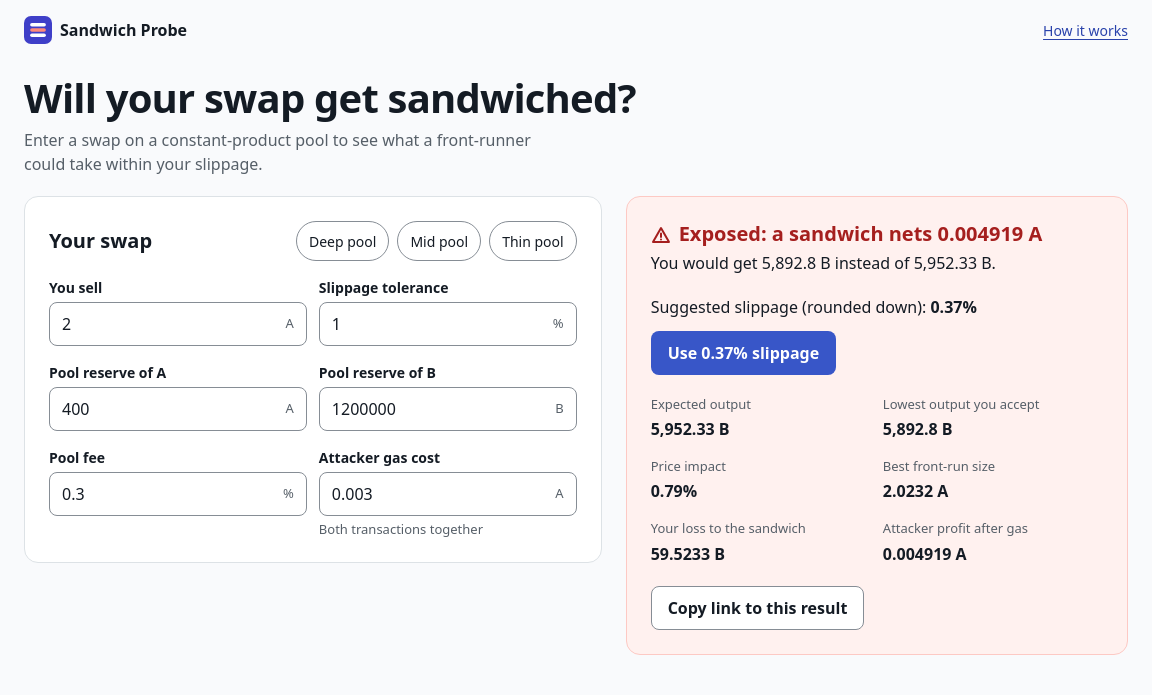
Test: App › rejects an ambiguous comma instead of guessing
Step 1. Replace the text in the field labelled "Pool reserve of A" with "1,234" → {"x": 168, "y": 409}, box [50,389,286,429]
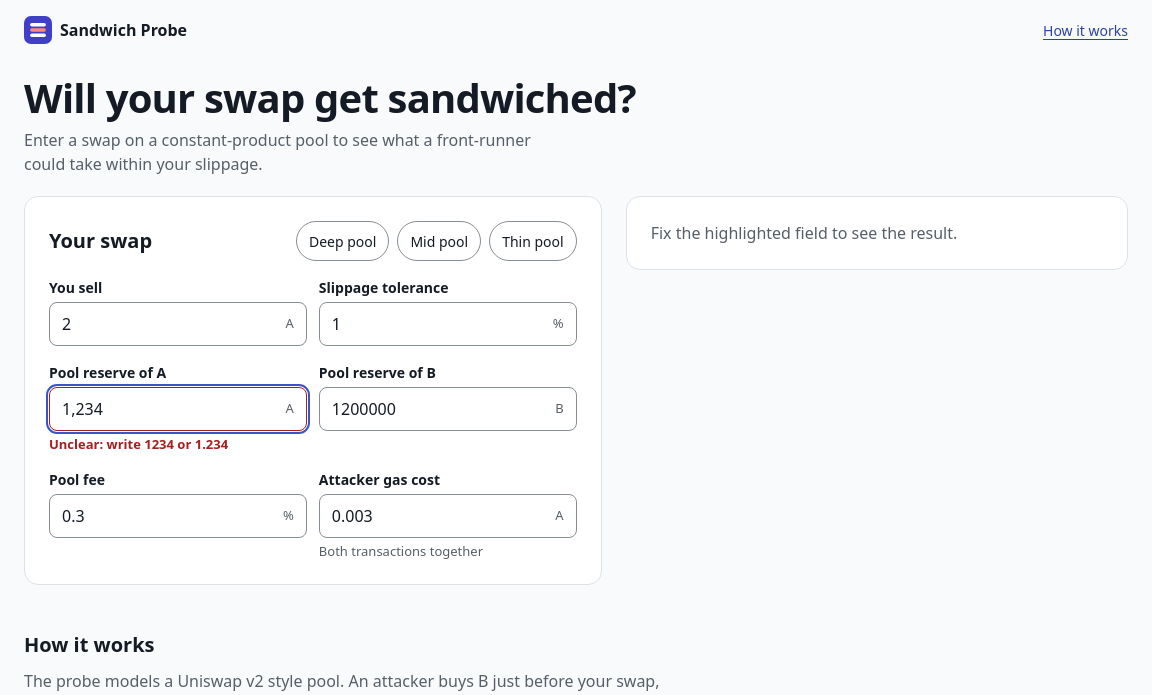
Now the text "Unclear: write 1234 or 1.234" is shown, box [49,435,228,453]
